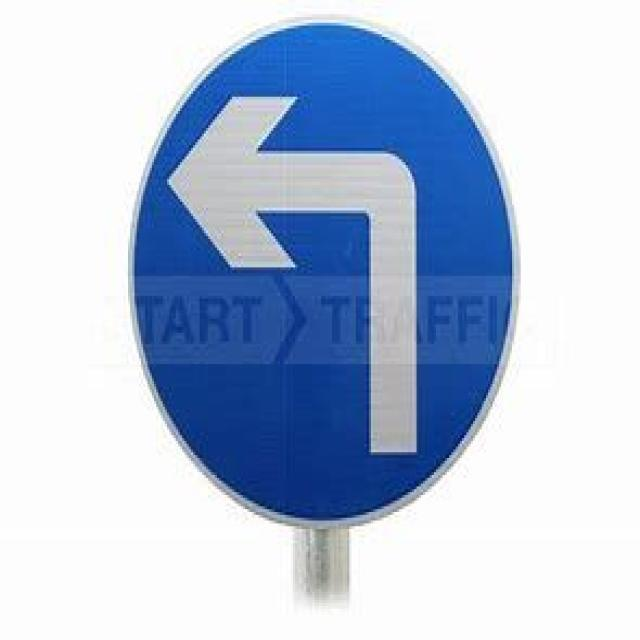compulsary turn left ahead: (129, 23, 513, 521)
